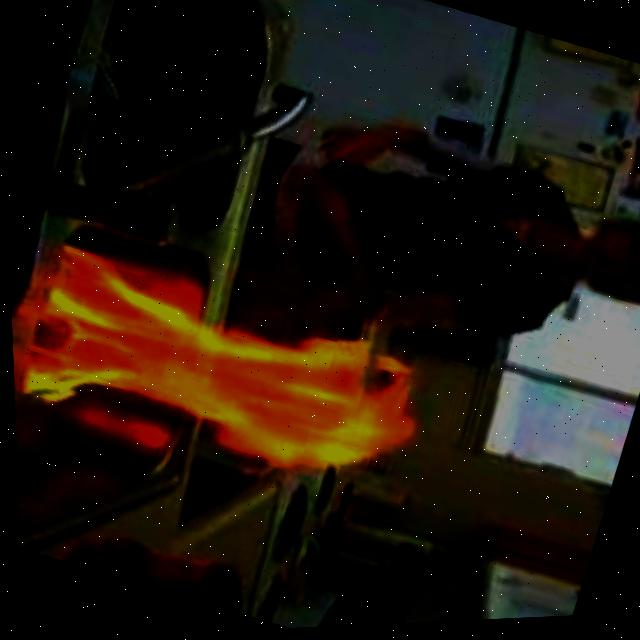Fire: (7, 221, 438, 517)
